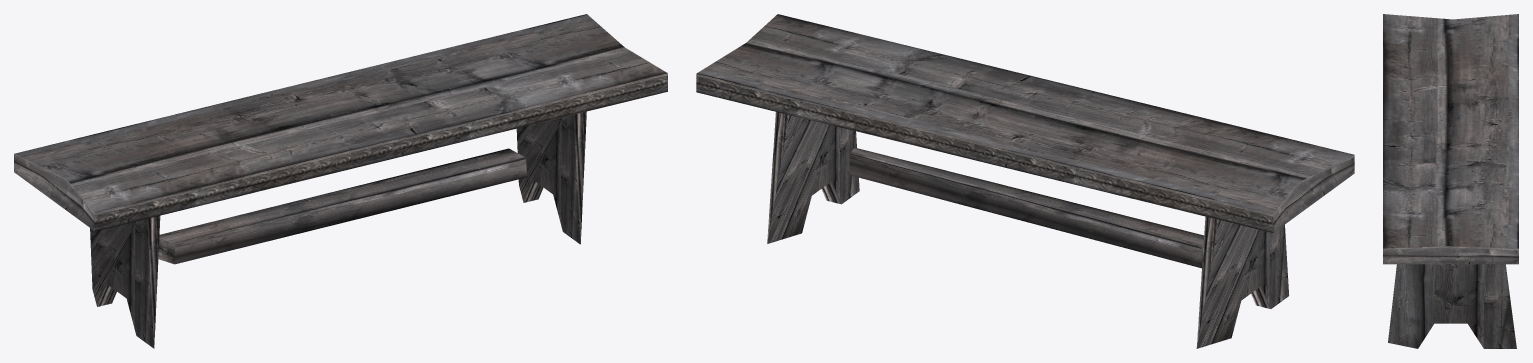
Rendered from tavern_bench_LOD.fbx.
3 views of the same model, side by side, from view 1: azimuth 30°, elevation 25°; view 2: azimuth 150°, elevation 25°; view 3: azimuth 270°, elevation 25° (orthographic). The views are drawn at different scales.
Visible parts, largest first — view 1: Default_Layer; view 2: Default_Layer; view 3: Default_Layer.
Boxes of the visible parts, x1,y1,x2,y2 form: Default_Layer: (14, 14, 667, 348); Default_Layer: (696, 14, 1354, 348); Default_Layer: (1383, 14, 1518, 348).
Size of the model in its own units: 158 by 40.43 by 38.67.
Materials: 1 (1 with a texture image).
